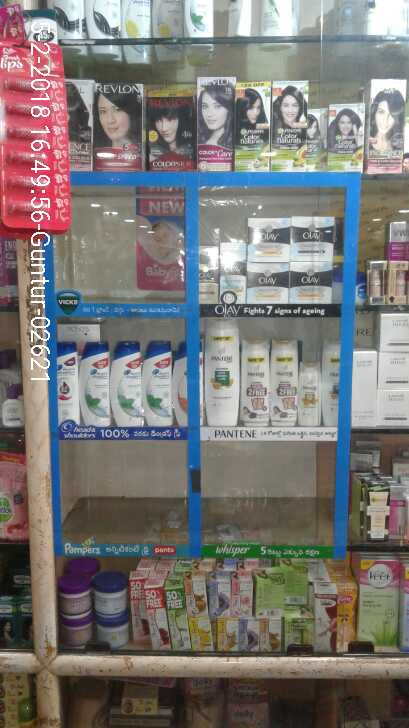beauty: (198, 323, 238, 423), (78, 340, 112, 429), (110, 337, 142, 430), (143, 335, 173, 425), (242, 336, 271, 426), (271, 337, 295, 428), (287, 217, 337, 259), (55, 341, 78, 428), (248, 217, 289, 264), (288, 262, 331, 304), (244, 266, 288, 307), (295, 362, 320, 424), (221, 241, 247, 300), (322, 341, 339, 430), (197, 246, 218, 301)
